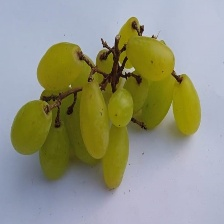grapes: (23, 6, 224, 177)
